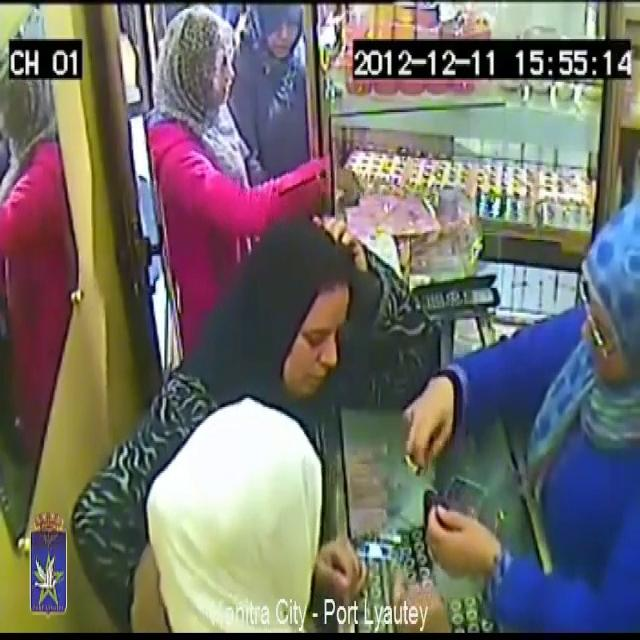Product: (344, 163, 364, 206), (412, 433, 430, 478)
normal: (139, 404, 407, 640), (247, 195, 378, 412), (228, 0, 314, 192)
shoplifting: (411, 199, 640, 640), (148, 7, 348, 274)
